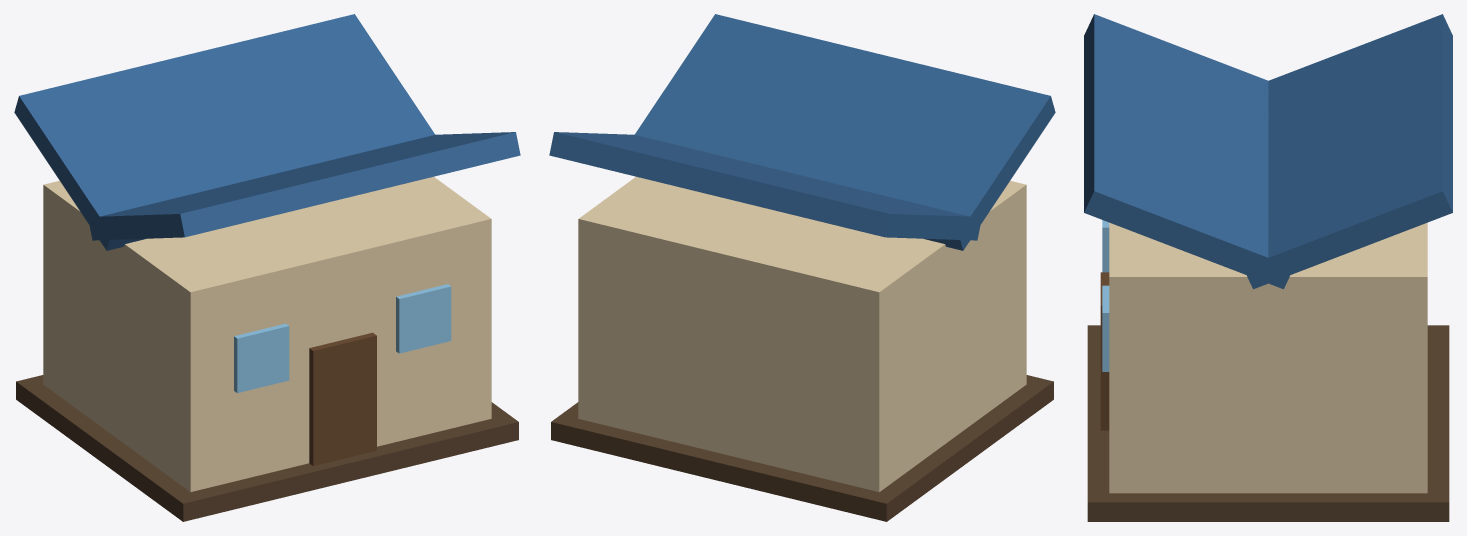
The model's file is house_blue.glb.
3 renders of one model, left to right at view 1: azimuth 30°, elevation 25°; view 2: azimuth 150°, elevation 25°; view 3: azimuth 270°, elevation 25°, orthographic. The views are drawn at different scales.
Parts seen in each view (by area): view 1: house_blue; view 2: house_blue; view 3: house_blue.
Part boxes in pixels (x1=…): house_blue: x1=14, y1=14, x2=520, y2=521; house_blue: x1=549, y1=14, x2=1055, y2=521; house_blue: x1=1084, y1=14, x2=1452, y2=521.
Bounding box in the file's own units: 2.9 × 2.52 × 2.55.
